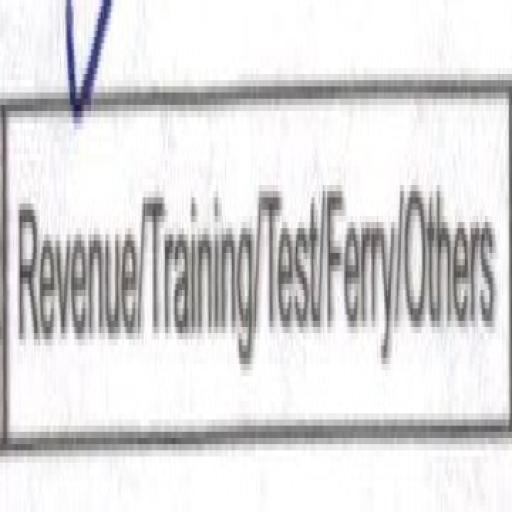check: (1, 0, 139, 467)
